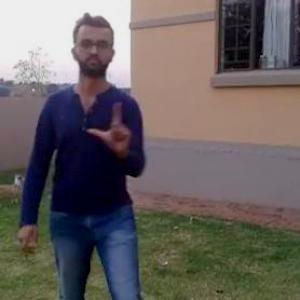land_hand: (91, 96, 146, 161)
